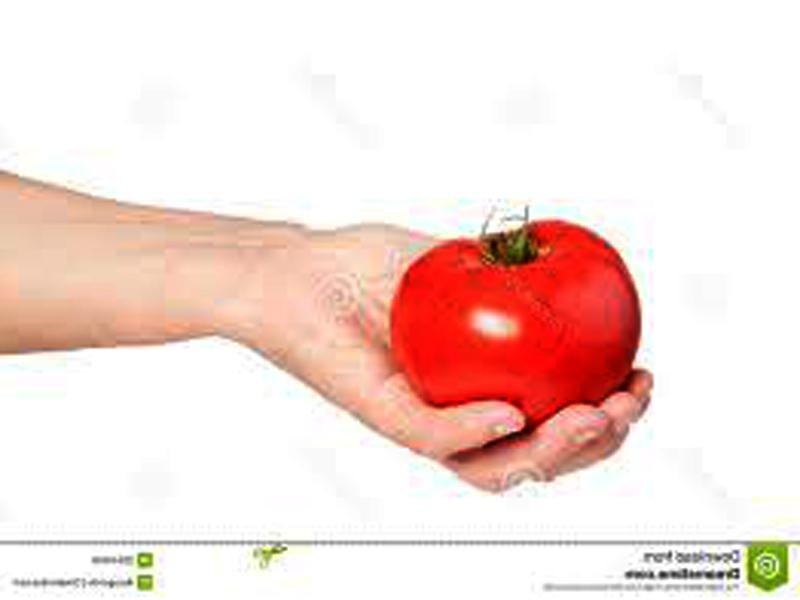Tomato: (387, 218, 640, 429)
